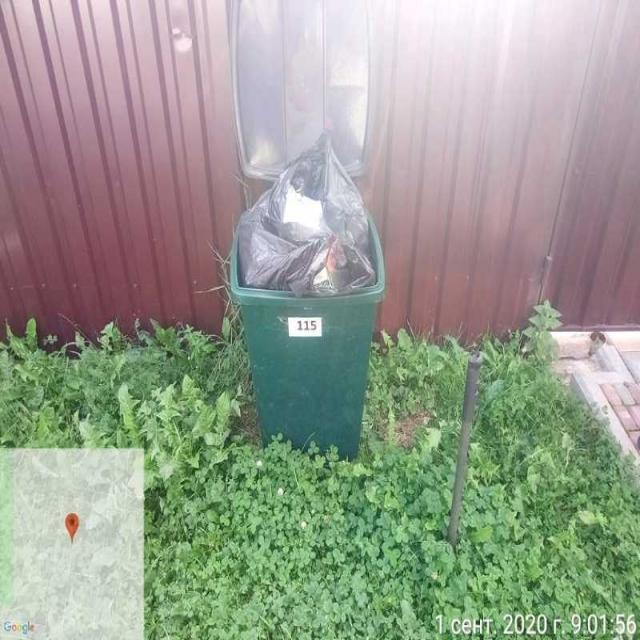Dumpster: (234, 208, 384, 453)
